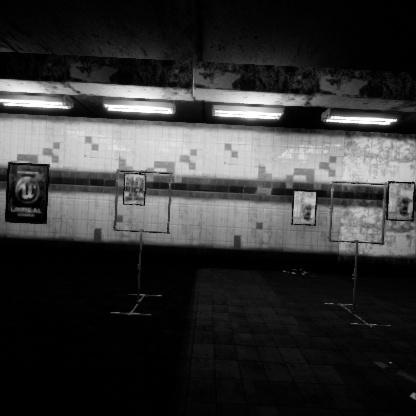gate: (114, 181, 177, 247), (329, 170, 392, 236)
